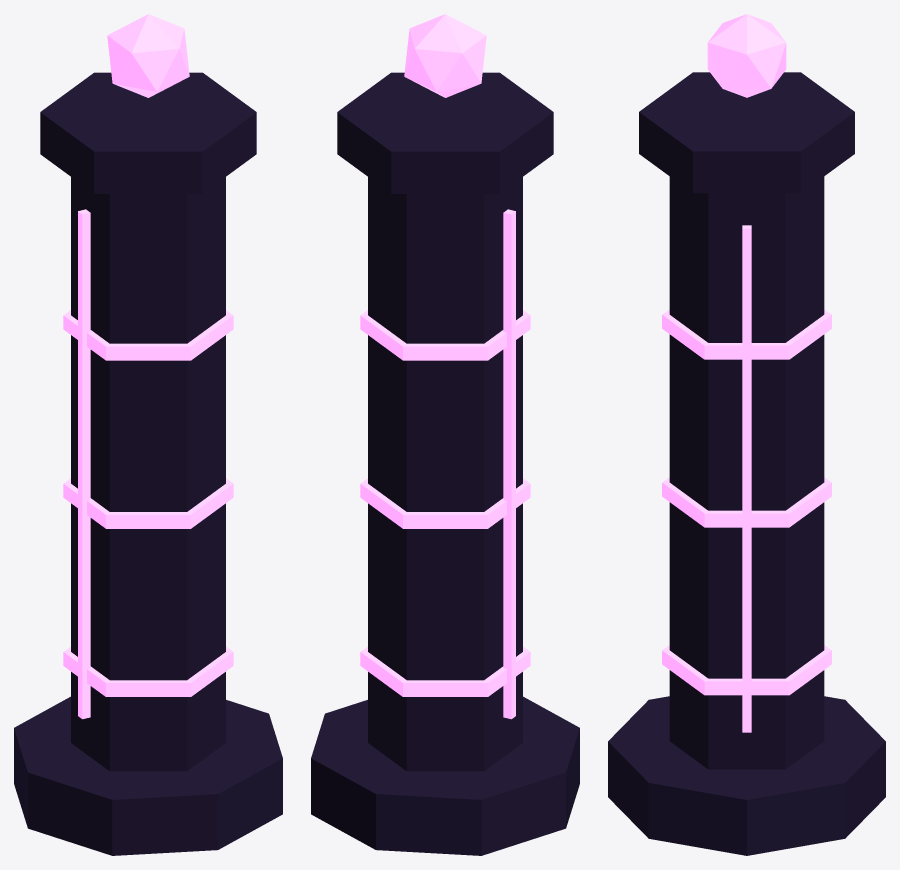
File: neon_pillar.fbx
3 views of the same model, side by side, from view 1: azimuth 30°, elevation 25°; view 2: azimuth 150°, elevation 25°; view 3: azimuth 270°, elevation 25° (orthographic).
Visible parts, largest first — view 1: Neon_pillar; view 2: Neon_pillar; view 3: Neon_pillar.
Boxes of the visible parts, x1,y1,x2,y2 form: Neon_pillar: (14, 14, 282, 855); Neon_pillar: (311, 14, 579, 855); Neon_pillar: (608, 14, 885, 855).
Bounding box in the file's own units: 1.8 × 5.6 × 1.8.
